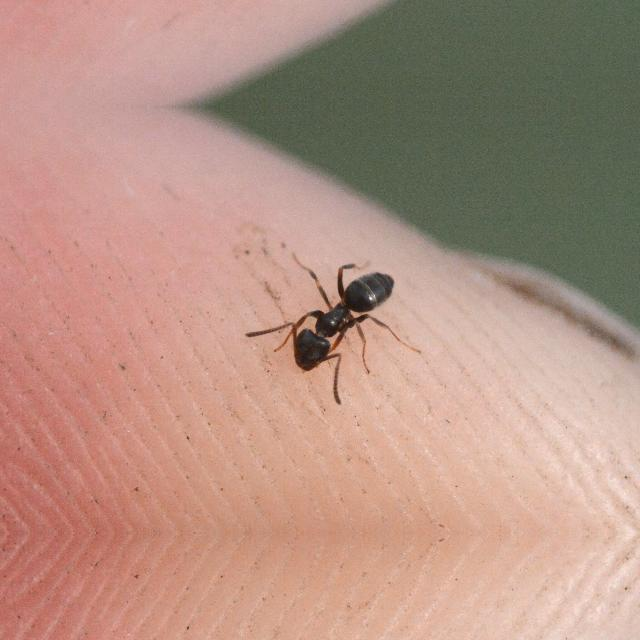Tapinoma: (259, 253, 425, 381)
